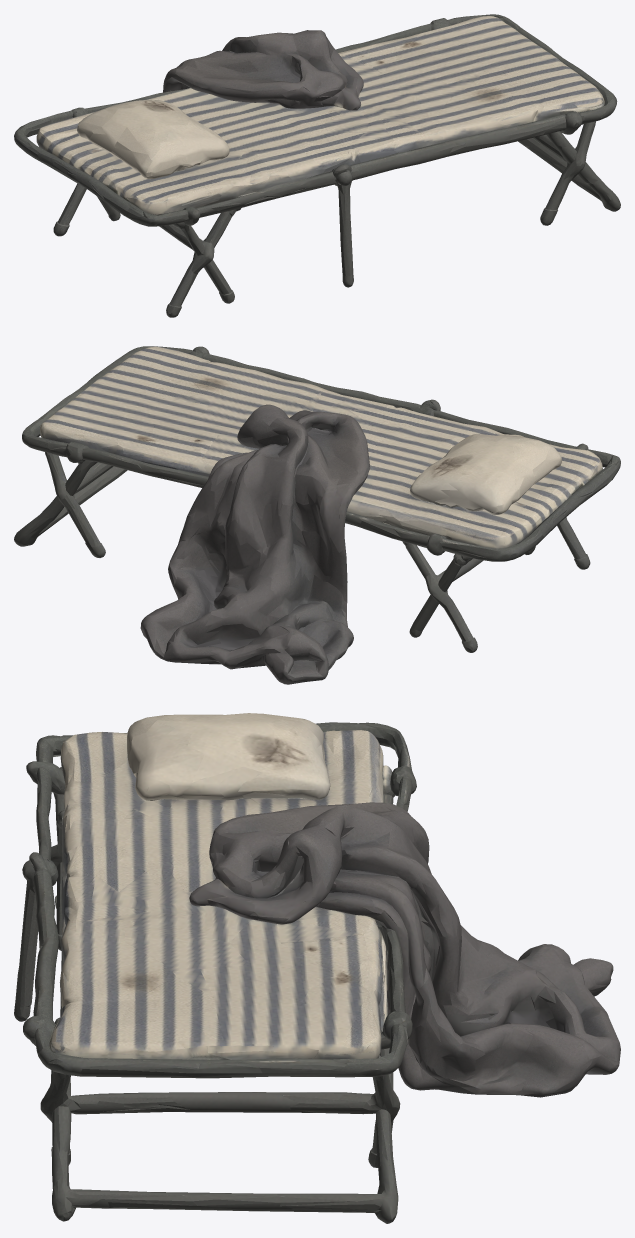
File: brandina.glb
3 views of the same model, one above another, from view 1: azimuth 30°, elevation 25°; view 2: azimuth 150°, elevation 25°; view 3: azimuth 270°, elevation 25° (orthographic). The views are drawn at different scales.
Visible parts, largest first — view 1: Mesh_0; view 2: Mesh_0; view 3: Mesh_0.
Part boxes in pixels (x1,y1,x2,y2): Mesh_0: [14, 14, 620, 317]; Mesh_0: [14, 346, 620, 684]; Mesh_0: [14, 713, 620, 1223].
Size of the model in its own units: 1.9 by 0.6193 by 1.42.
Materials: 1 (1 with a texture image).
